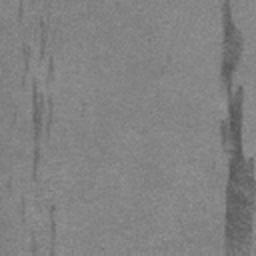Red iron sheet: (220, 0, 256, 256), (32, 84, 43, 141), (34, 146, 40, 170)
